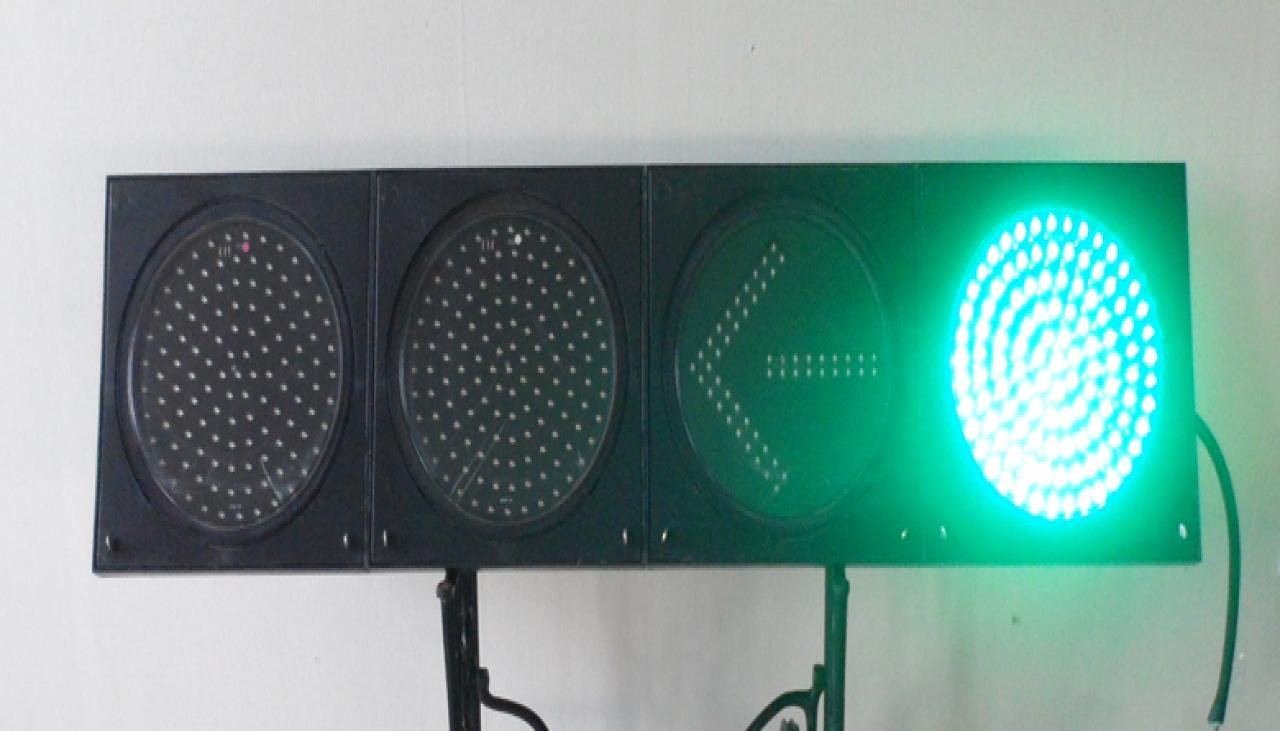Green Light: (926, 176, 1194, 558)
